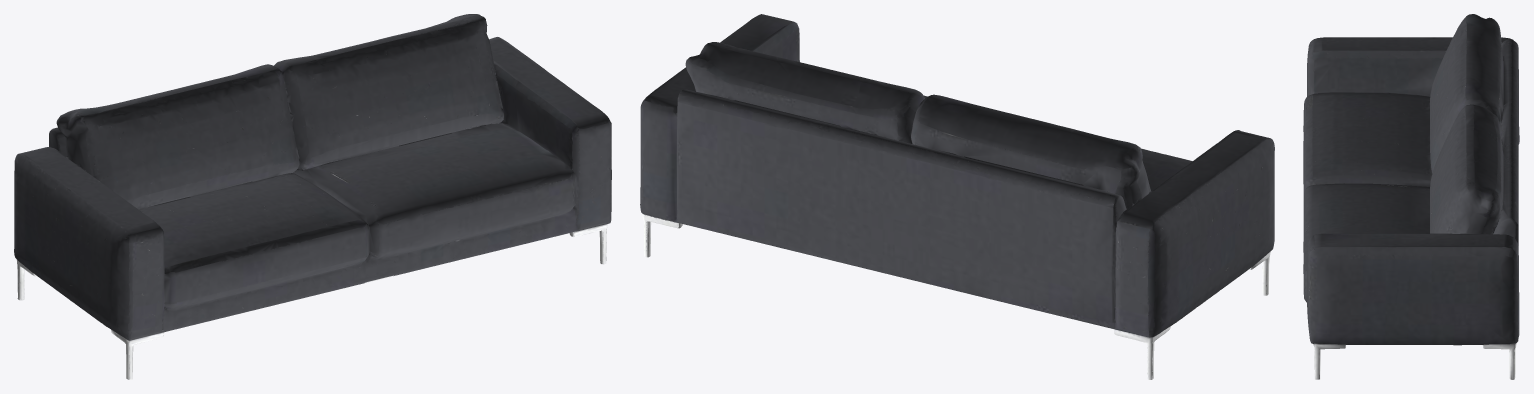
File: couch.glb
3 views of the same model, side by side, from view 1: azimuth 30°, elevation 25°; view 2: azimuth 150°, elevation 25°; view 3: azimuth 270°, elevation 25° (orthographic). The views are drawn at different scales.
Visible parts, largest first — view 1: geometry_0; view 2: geometry_0; view 3: geometry_0.
Part boxes in pixels (bbox=[...]): geometry_0: bbox=[14, 14, 611, 379]; geometry_0: bbox=[640, 14, 1274, 379]; geometry_0: bbox=[1303, 14, 1519, 379].
Bounding box in the file's own units: 1 × 0.374 × 0.422.
1 material, 1 textured.
